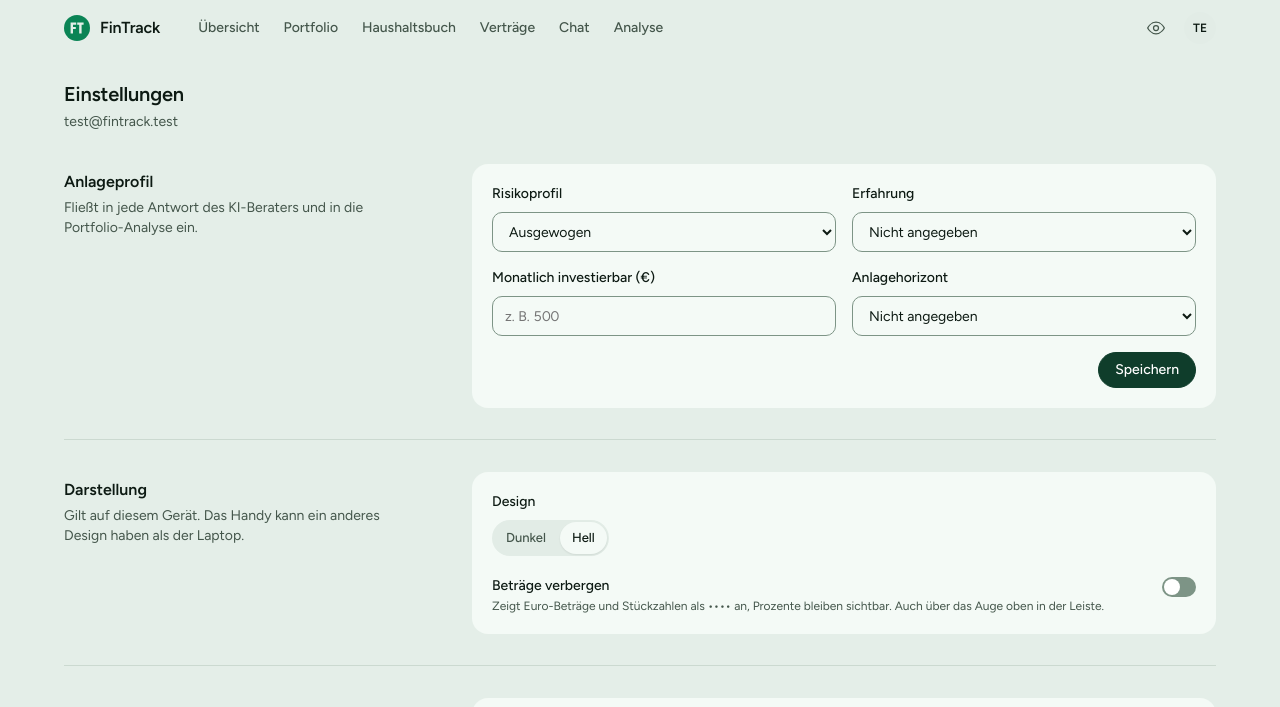
Test: Einstellungen › lehnt einen ungültigen Betrag ab, ohne etwas zu senden
In the field labelled "Monatlich investierbar (€)": (664, 316) [492,296,836,336], type "0"
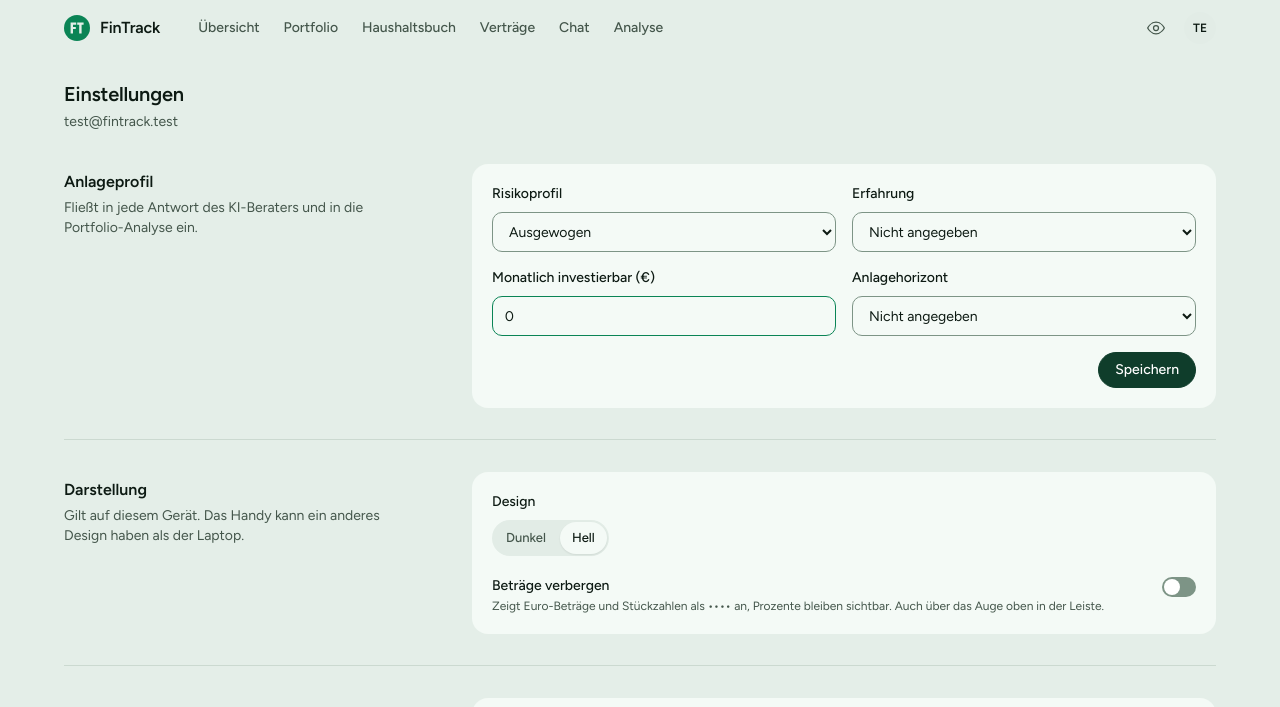
Click the button "Speichern": (1147, 370) [1098,352,1196,388]
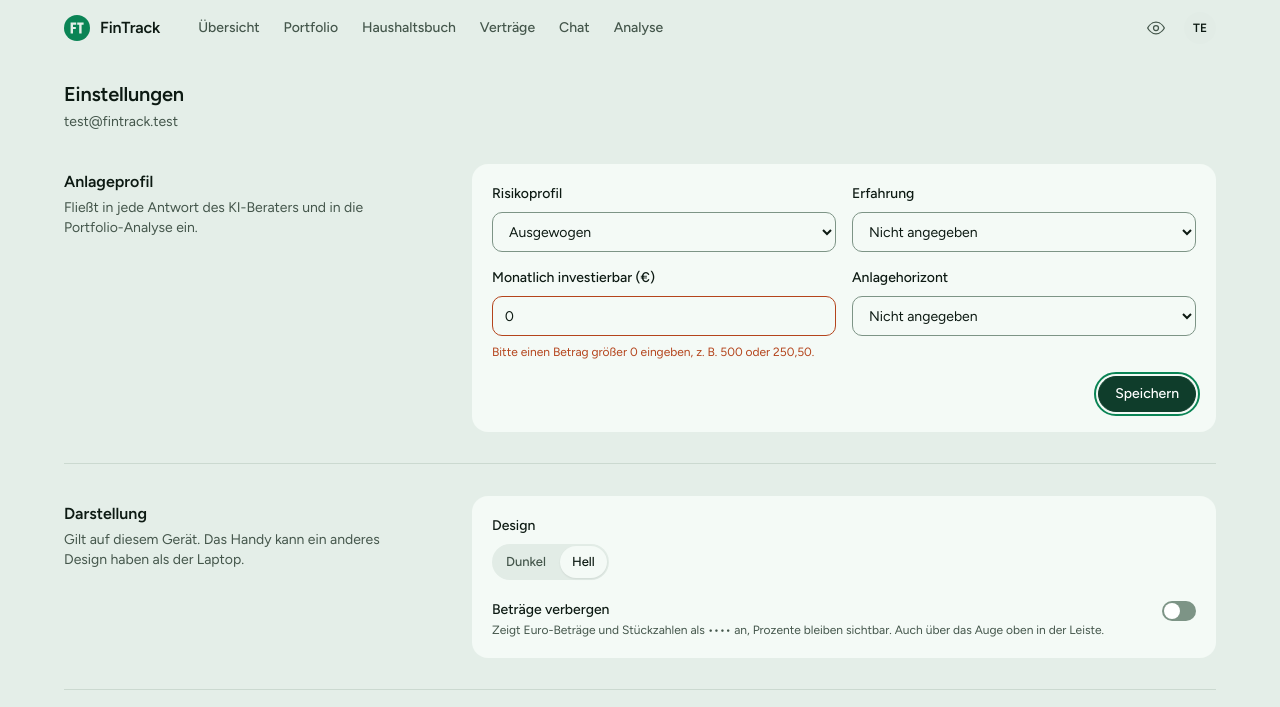
expect the text "Bitte einen Betrag größer 0 eingeben, z. B. 500 oder 250,50." is shown: met, box [492,344,836,360]
